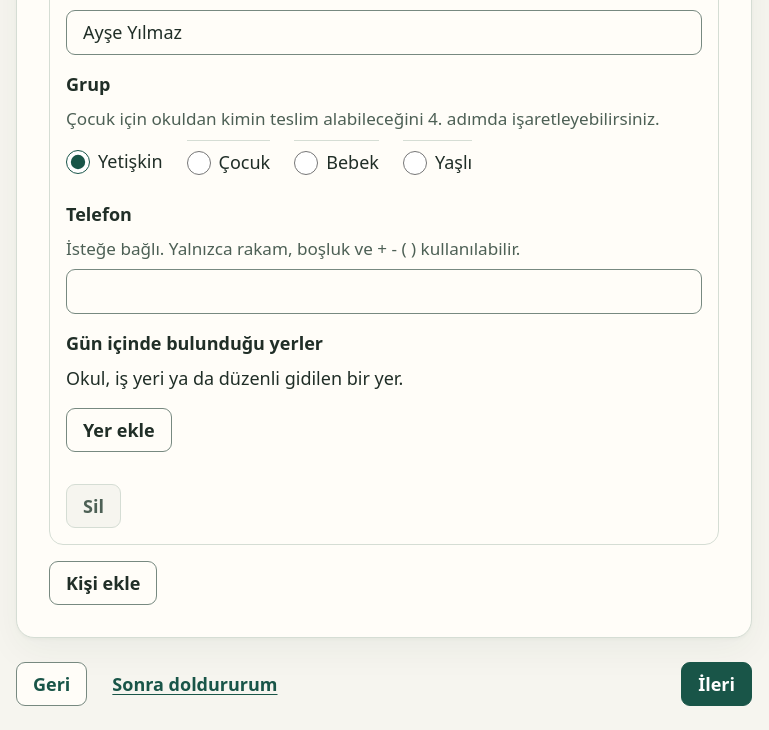
Test: sihirbaz — doğrulama (§11.4) › ad doldurulunca "İleri" sonraki adıma geçer
(page scrolled)
Click the button "İleri".
click(717, 684)  # box [681,662,752,706]
(page scrolled)
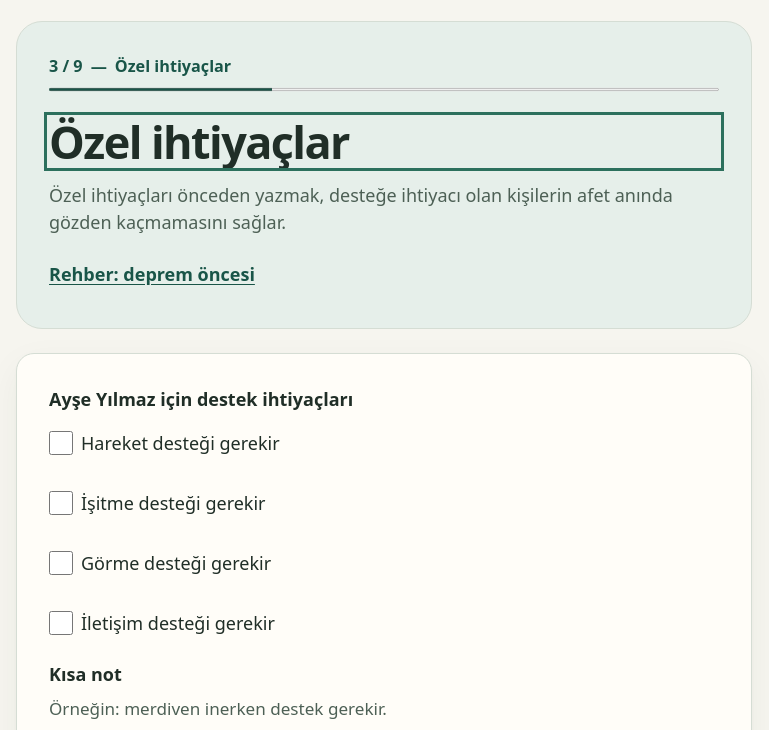
expect the heading "Özel ihtiyaçlar" is shown: met, box [49,111,349,172]
